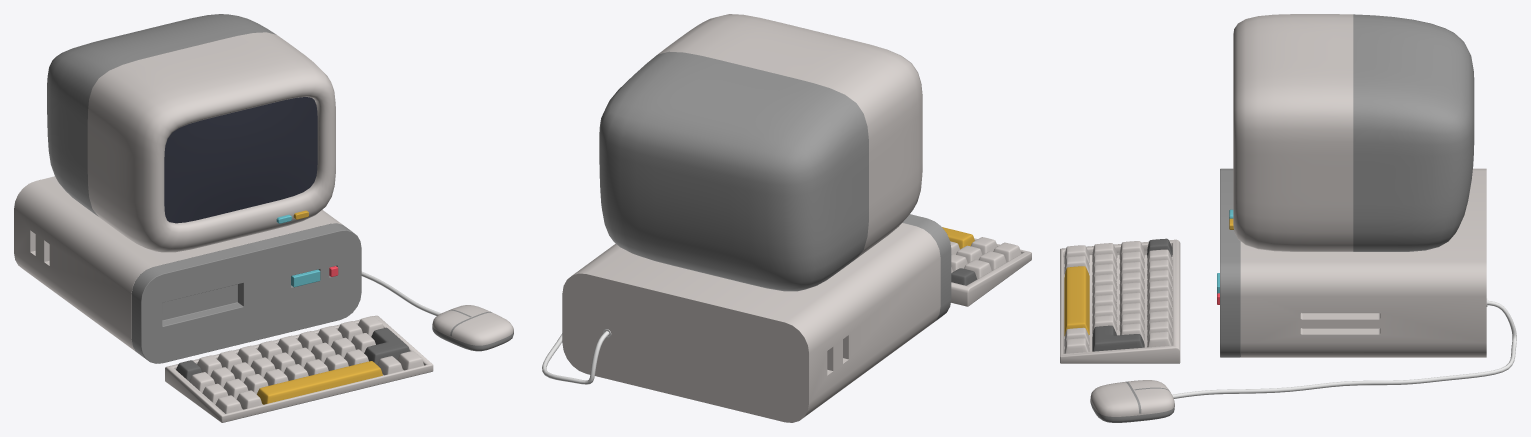
The model's file is old_computer.glb.
3 renders of one model, left to right at view 1: azimuth 30°, elevation 25°; view 2: azimuth 150°, elevation 25°; view 3: azimuth 270°, elevation 25°, orthographic. The views are drawn at different scales.
Parts seen in each view (by area): view 1: MonitorFrontPart, PCFrontPart, ComputerScreen, PC, KeyboardKeys, MonitorBackPart, KeyboardBase, MouseTop, MouseBase; view 2: MonitorBackPart, PC, MonitorFrontPart, KeyboardKeys, KeyboardBase, PCFrontPart, MouseCable; view 3: PC, MonitorFrontPart, MonitorBackPart, KeyboardKeys, KeyboardBase, PCFrontPart, MouseTop, MouseCable, MouseBase.
Boxes of the visible parts, x1=… form: MonitorFrontPart: x1=87, y1=32, x2=335, y2=252; PCFrontPart: x1=131, y1=223, x2=361, y2=363; ComputerScreen: x1=164, y1=97, x2=317, y2=223; PC: x1=14, y1=176, x2=342, y2=352; KeyboardKeys: x1=176, y1=316, x2=423, y2=413; MonitorBackPart: x1=47, y1=14, x2=276, y2=216; KeyboardBase: x1=165, y1=315, x2=433, y2=422; MouseTop: x1=432, y1=305, x2=513, y2=345; MouseBase: x1=432, y1=326, x2=513, y2=351; MonitorBackPart: x1=599, y1=51, x2=868, y2=291; PC: x1=562, y1=223, x2=940, y2=422; MonitorFrontPart: x1=658, y1=14, x2=922, y2=257; KeyboardKeys: x1=942, y1=227, x2=1021, y2=285; KeyboardBase: x1=951, y1=238, x2=1031, y2=306; PCFrontPart: x1=902, y1=214, x2=951, y2=322; MouseCable: x1=542, y1=331, x2=609, y2=384; PC: x1=1240, y1=168, x2=1486, y2=357; MonitorFrontPart: x1=1233, y1=14, x2=1353, y2=251; MonitorBackPart: x1=1353, y1=14, x2=1474, y2=251; KeyboardKeys: x1=1064, y1=238, x2=1172, y2=353; KeyboardBase: x1=1060, y1=239, x2=1180, y2=363; PCFrontPart: x1=1220, y1=168, x2=1240, y2=357; MouseTop: x1=1090, y1=380, x2=1174, y2=416; MouseCable: x1=1172, y1=300, x2=1516, y2=398; MouseBase: x1=1090, y1=400, x2=1174, y2=422.
Size of the model in its own units: 5.81 by 4.46 by 6.86.
